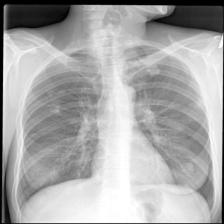tuberculosis: (3, 37, 219, 224)
